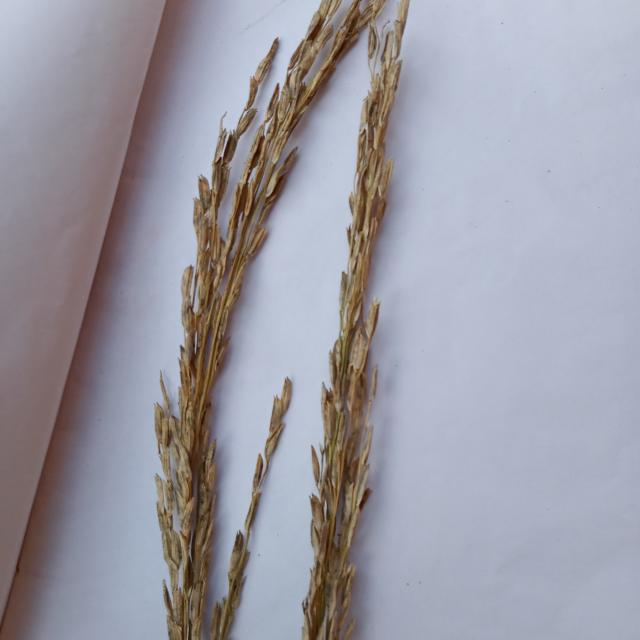Neck_Blast: (150, 0, 390, 640), (293, 0, 406, 636)
